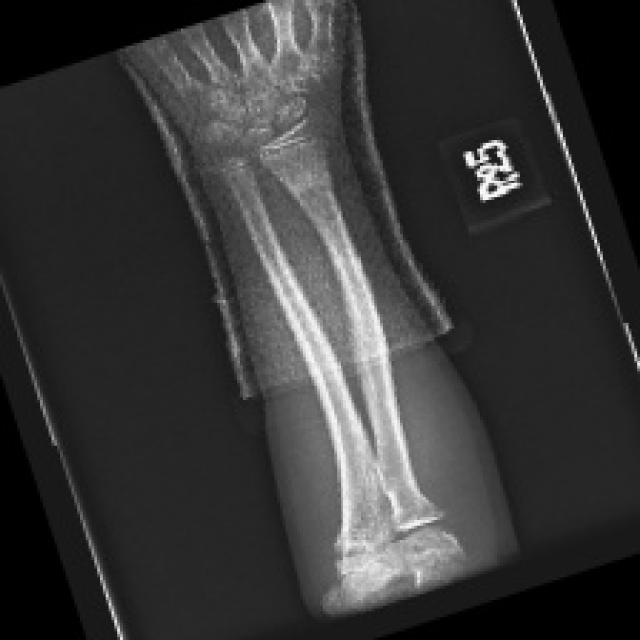fracture: (309, 511, 476, 570)
